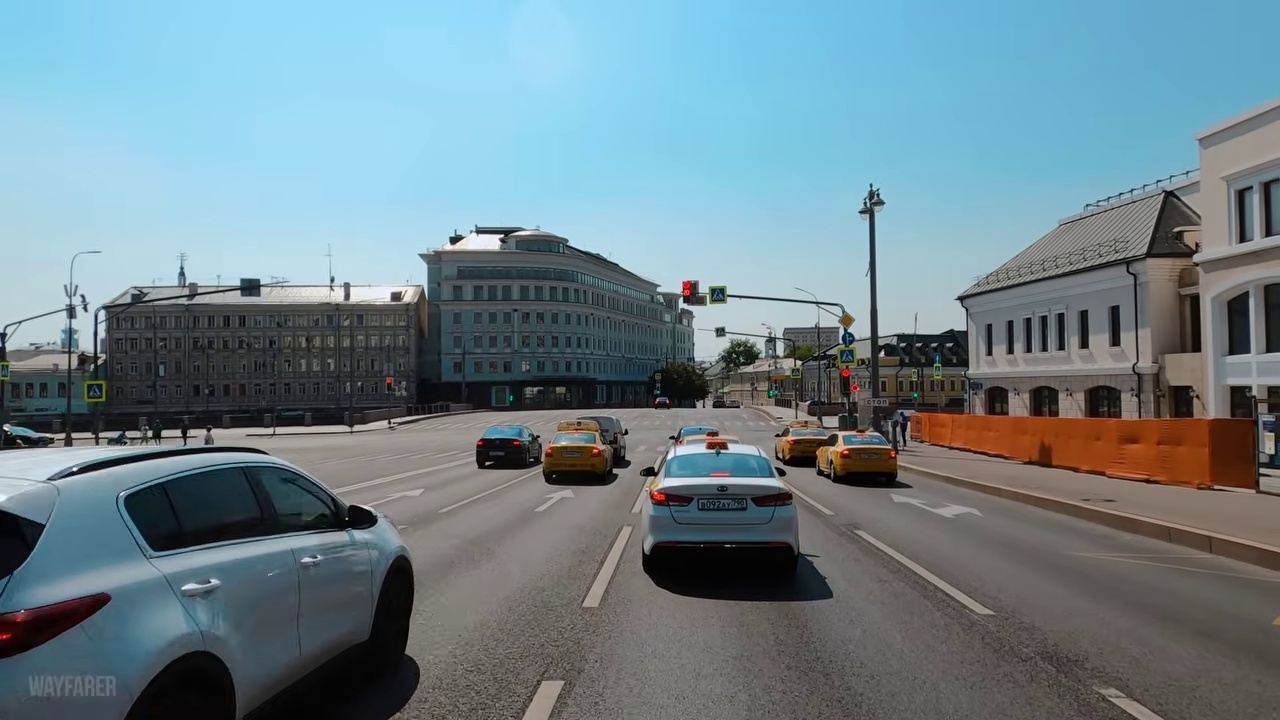apagada: (856, 190, 887, 223)
